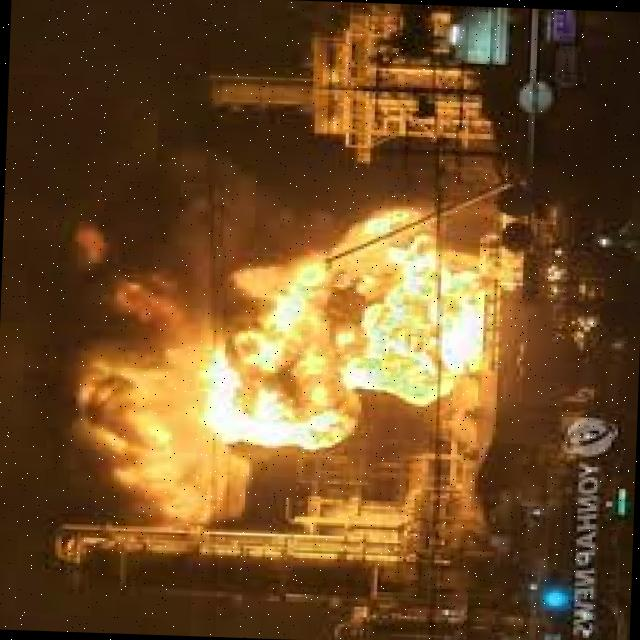explosion: (104, 168, 564, 536)
